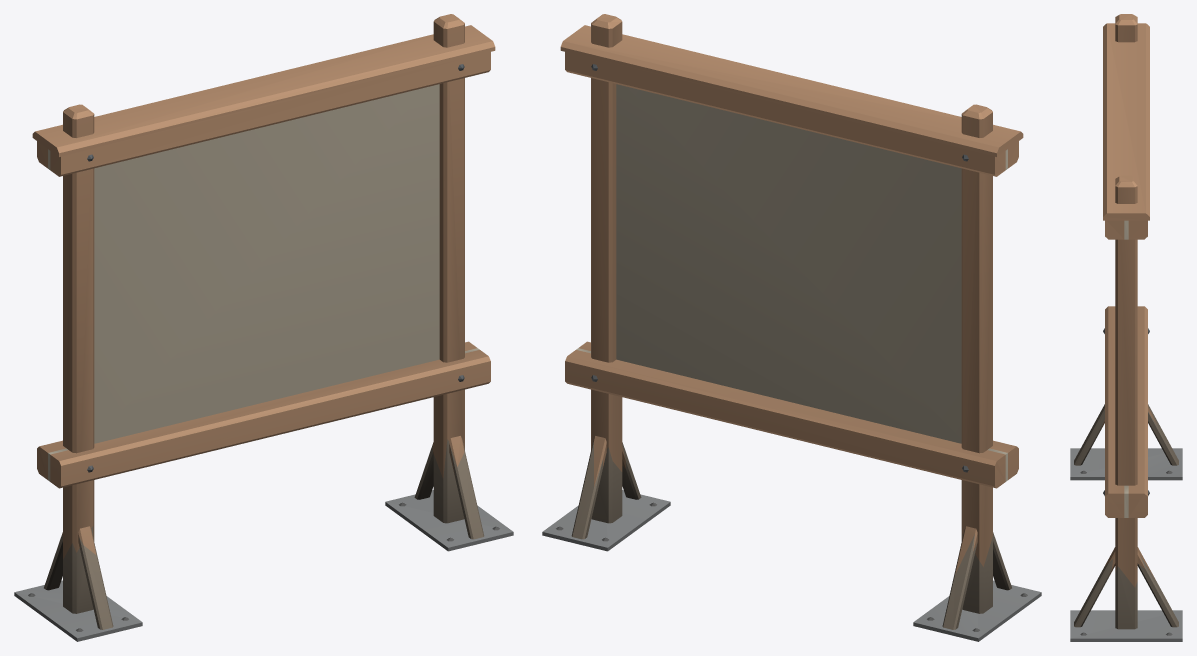
File: sign.glb
The picture shows the model from 3 angles, left to right: view 1: azimuth 30°, elevation 25°; view 2: azimuth 150°, elevation 25°; view 3: azimuth 270°, elevation 25°; orthographic projection. The views are drawn at different scales.
Visible parts, largest first — view 1: sign; view 2: sign; view 3: sign.
Part boxes in pixels (bbox=[...]): sign: bbox=[14, 14, 513, 641]; sign: bbox=[542, 14, 1041, 641]; sign: bbox=[1070, 14, 1182, 641].
Size of the model in its own units: 2 by 2.2 by 0.5.
